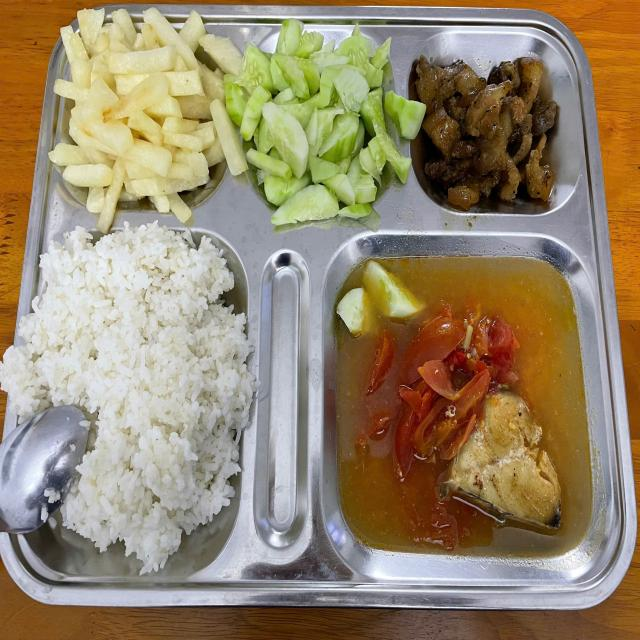canhchua: (340, 248, 586, 554)
dualeo: (241, 32, 405, 212)
khoailuoc: (66, 23, 222, 197)
salad: (38, 236, 239, 551)
tomramthit: (421, 45, 556, 206)
